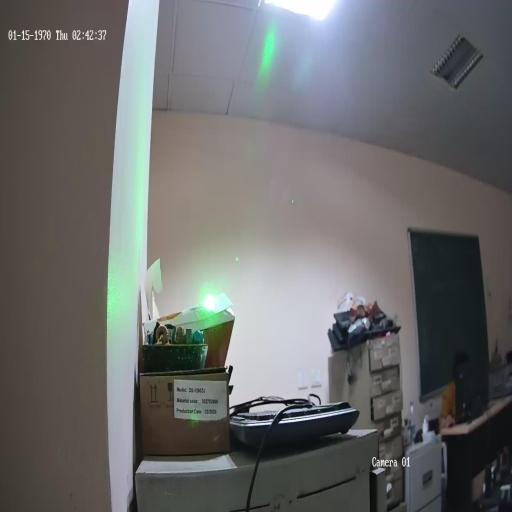laser: (200, 284, 219, 316)
